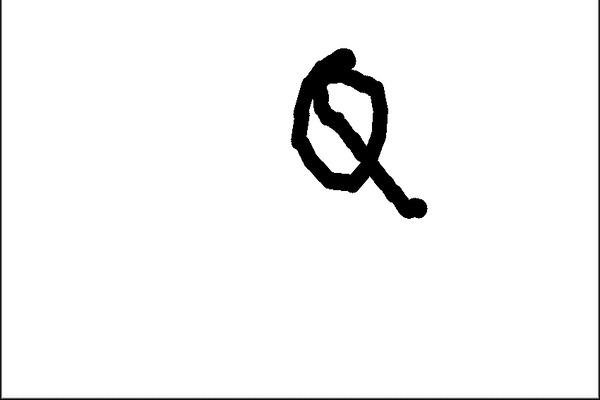Q: (275, 35, 430, 227)
